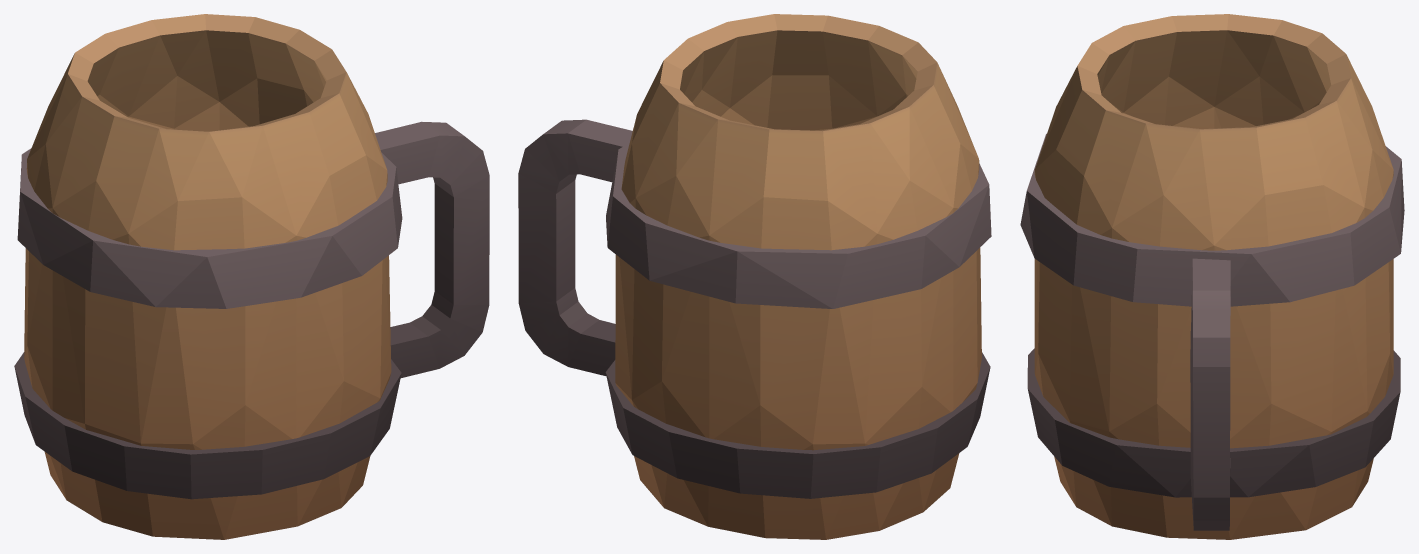
Rendered from SM_Tankard_01.fbx.
3 views of the same model, side by side, from view 1: azimuth 30°, elevation 25°; view 2: azimuth 150°, elevation 25°; view 3: azimuth 270°, elevation 25° (orthographic).
Parts seen in each view (by area): view 1: SM_Tankard_01; view 2: SM_Tankard_01; view 3: SM_Tankard_01.
Part boxes in pixels (left/top/right/bottom): SM_Tankard_01: left=14, top=14, right=489, bottom=539; SM_Tankard_01: left=518, top=14, right=991, bottom=539; SM_Tankard_01: left=1020, top=14, right=1404, bottom=539.
Size of the model in its own units: 21.08 by 18.6 by 16.06.
